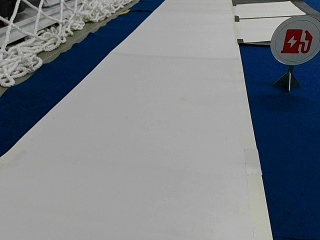battery: (270, 15, 318, 64)
